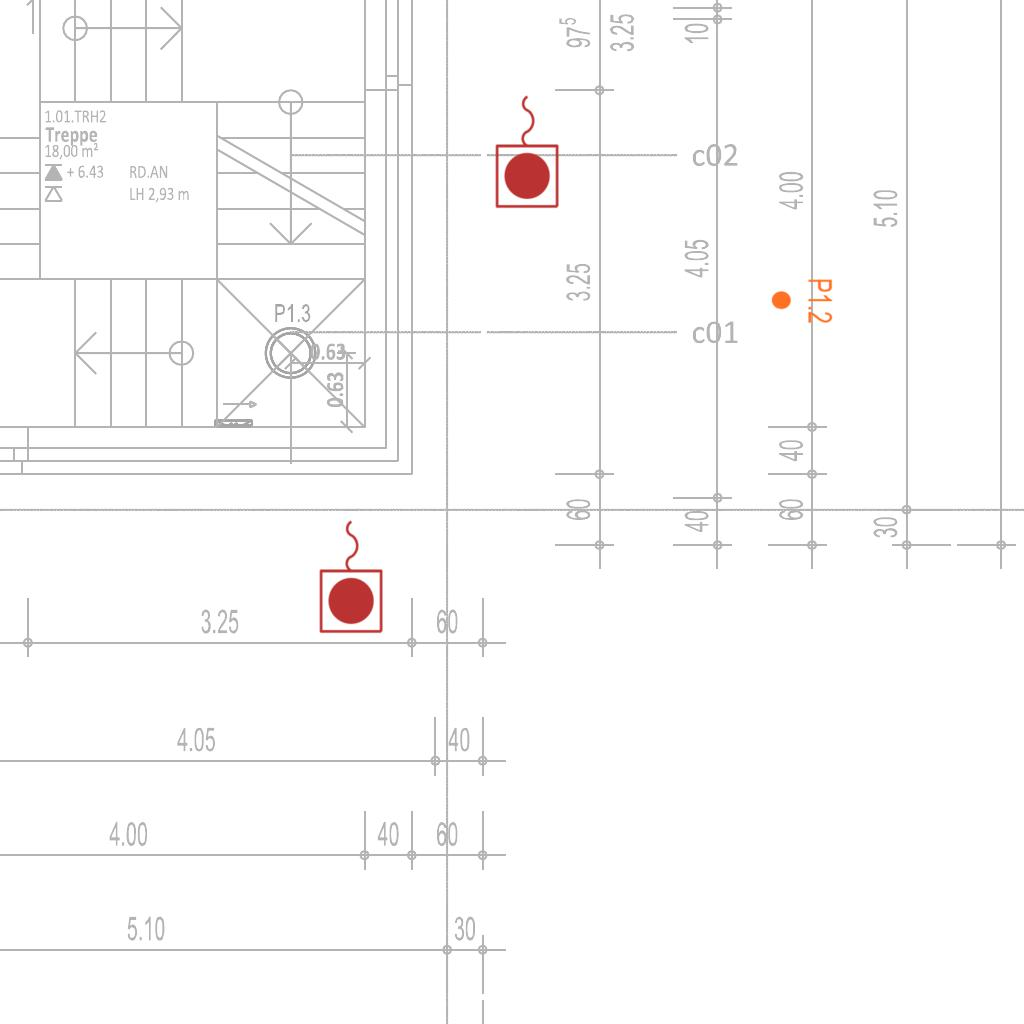Downlight_LED_Einbauleuchten_Flur: (770, 278, 834, 324)
Zugtaster: (316, 515, 388, 637), (492, 90, 564, 212)
